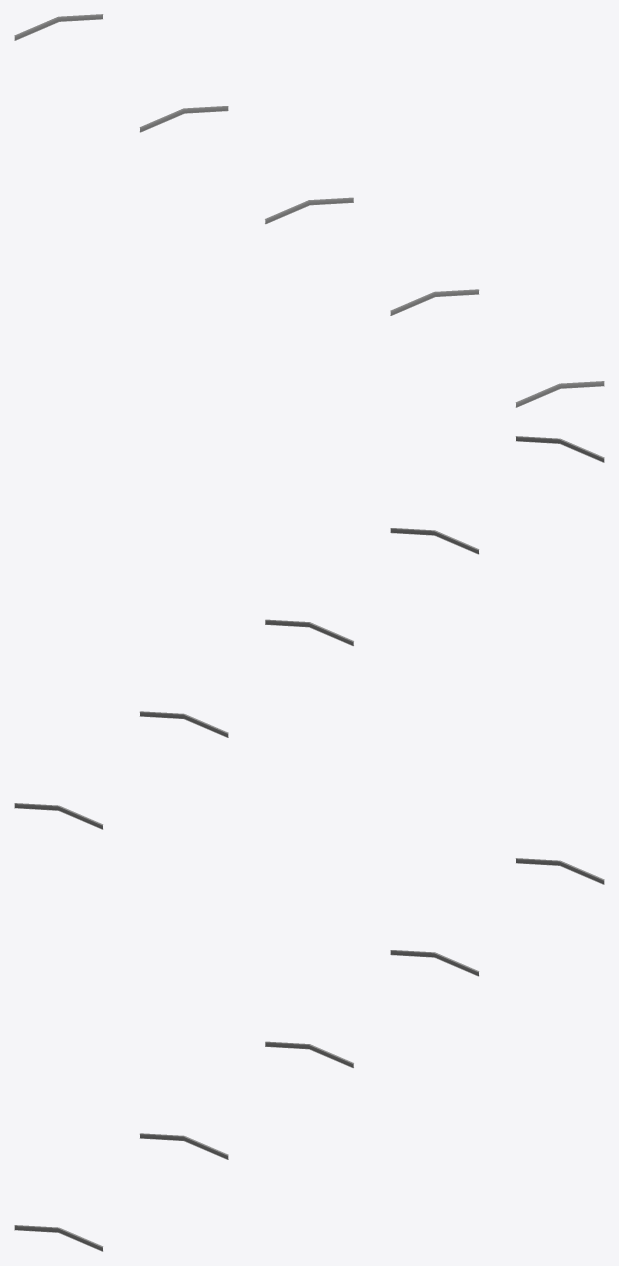
Rendered from AMB_ST_YANE_IRON.glb.
3 renders of one model, top to bottom at view 1: azimuth 30°, elevation 25°; view 2: azimuth 150°, elevation 25°; view 3: azimuth 330°, elevation 25°, orthographic.
Parts seen in each view (by area): view 1: bone_02-16; view 2: bone_02-16; view 3: bone_02-16.
Boxes of the visible parts, x1,y1,x2,y2 form: bone_02-16: (14, 14, 604, 407); bone_02-16: (14, 436, 604, 829); bone_02-16: (14, 858, 604, 1251).
Size of the model in its own units: 10.2 by 1.39 by 100.
1 material, 1 textured.
